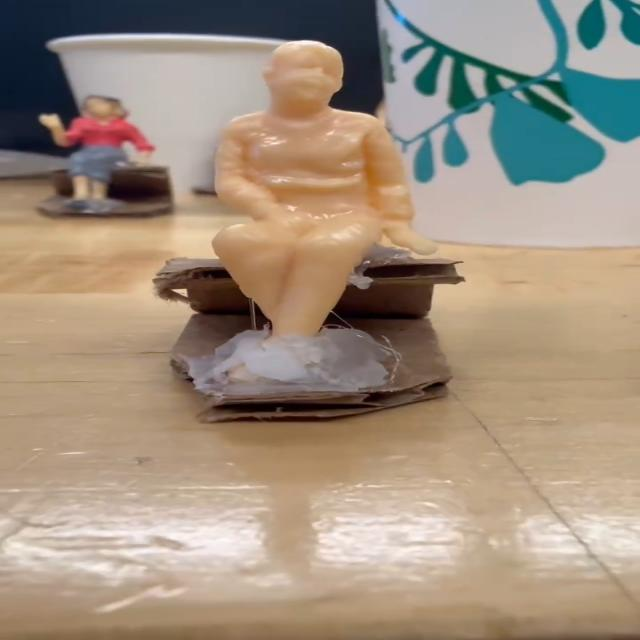Unauthorized: (197, 38, 436, 377)
